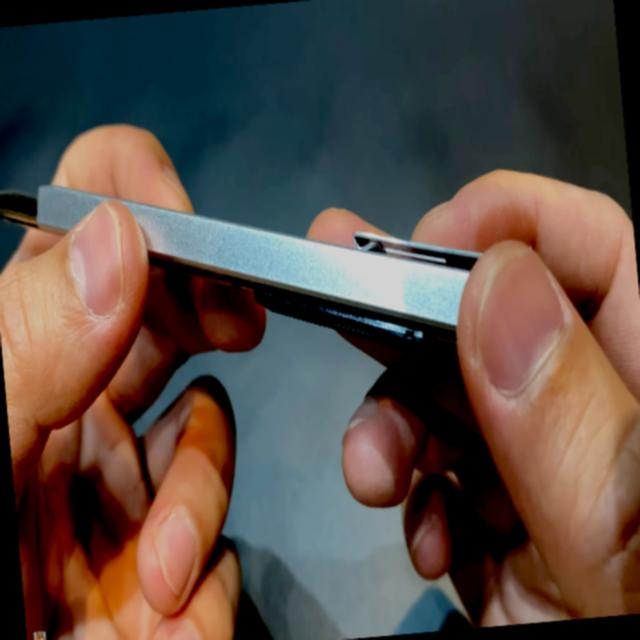cutter: (0, 63, 627, 534)
